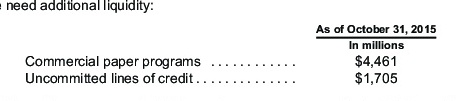table: (0, 0, 456, 101)
